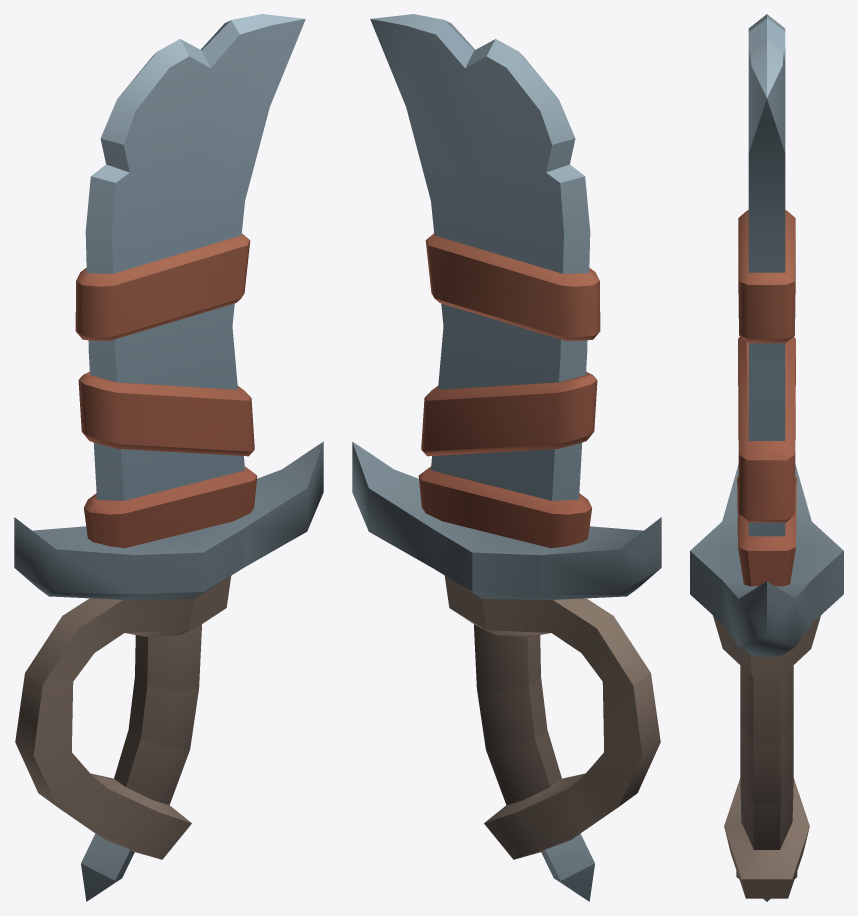
Rendered from Skeleton_Blade.glb.
The picture shows the model from 3 angles, left to right: view 1: azimuth 30°, elevation 25°; view 2: azimuth 150°, elevation 25°; view 3: azimuth 270°, elevation 25°; orthographic projection. The views are drawn at different scales.
Visible parts, largest first — view 1: Skeleton_Blade; view 2: Skeleton_Blade; view 3: Skeleton_Blade.
Part boxes in pixels (box(x1,y1,x2,y2)): Skeleton_Blade: box(14, 14, 323, 901); Skeleton_Blade: box(352, 14, 661, 901); Skeleton_Blade: box(690, 14, 843, 901).
Bounding box in the file's own units: 0.5727 × 1.5 × 0.2223.
Materials: 1 (1 with a texture image).
